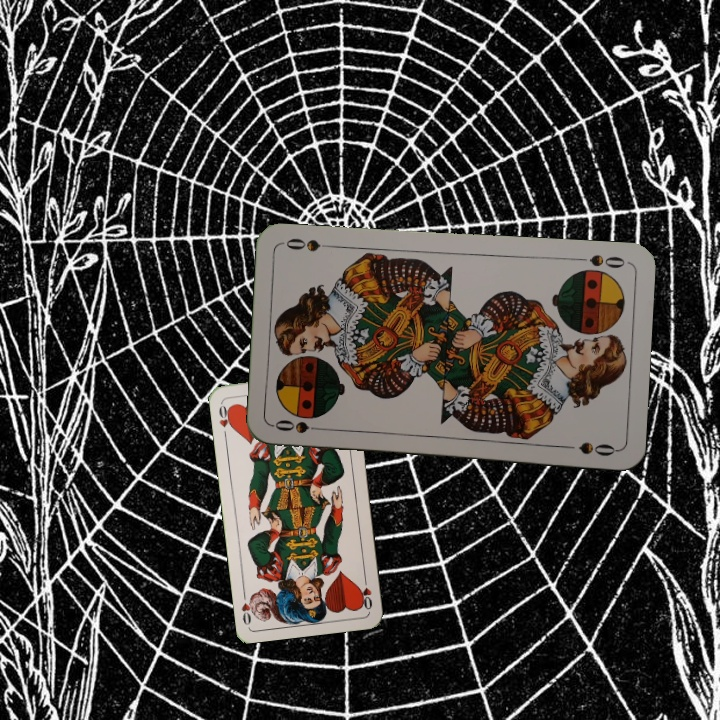HO: (215, 399, 235, 440), (356, 572, 375, 612)
SO: (570, 250, 628, 271), (271, 416, 330, 436)
